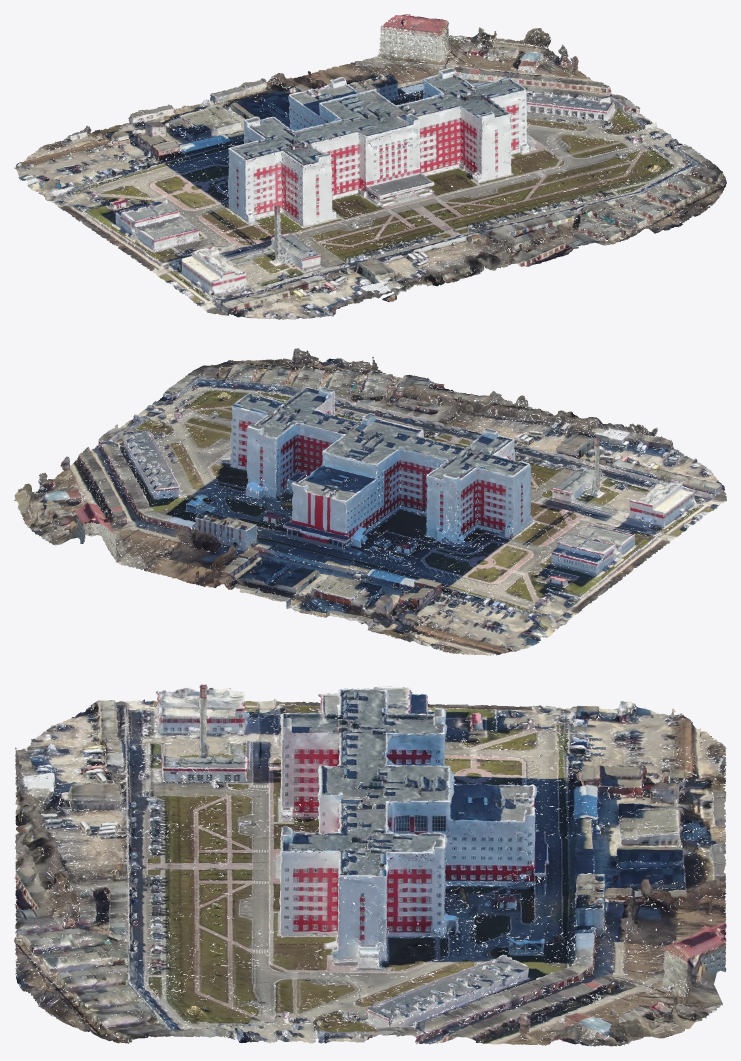
The model's file is SUP_hospital_02.glb.
3 renders of one model, top to bottom at view 1: azimuth 30°, elevation 25°; view 2: azimuth 150°, elevation 25°; view 3: azimuth 270°, elevation 25°, orthographic. The views are drawn at different scales.
Visible parts, largest first — view 1: SUP_hospital_02; view 2: SUP_hospital_02; view 3: SUP_hospital_02.
Boxes of the visible parts, x1,y1,x2,y2 form: SUP_hospital_02: (14, 14, 726, 319); SUP_hospital_02: (14, 348, 726, 655); SUP_hospital_02: (14, 684, 726, 1046).
Size of the model in its own units: 20.58 by 3.08 by 17.56.
3 materials, 3 textured.
